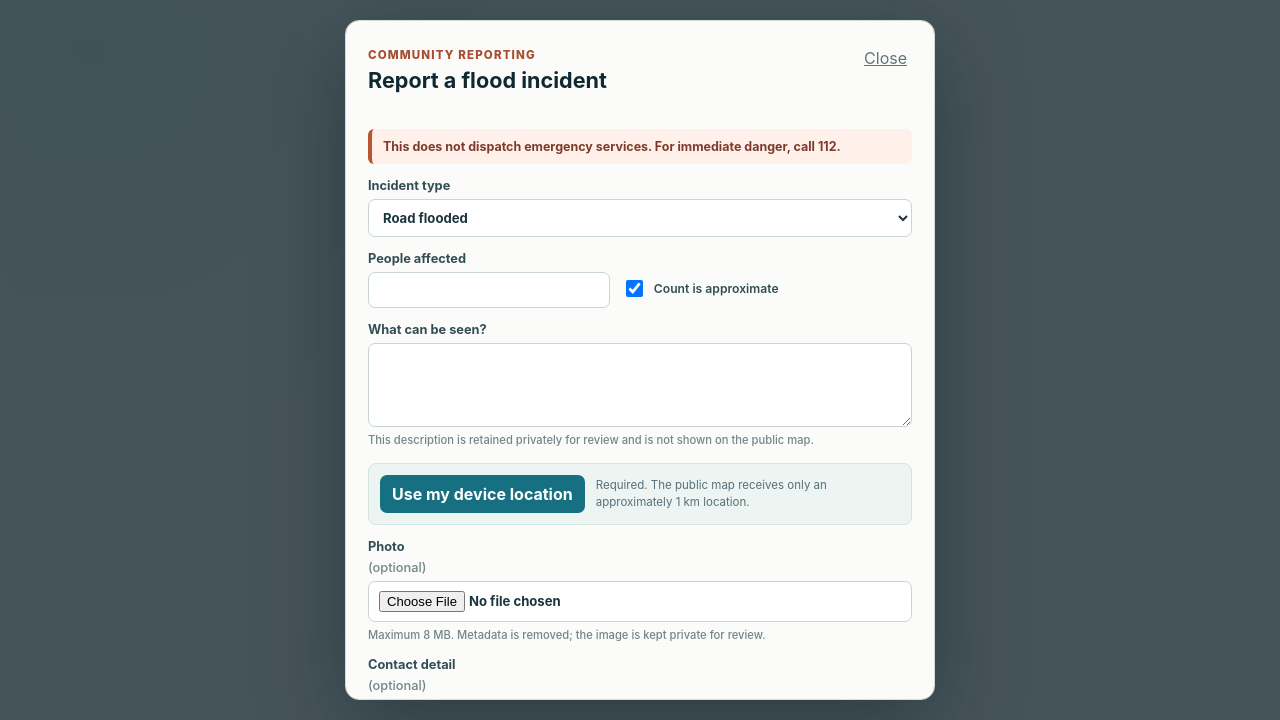
IncidentReportDialog › captures location, submits privacy fields and presents the unverified receipt
Click the button "Use my device location". click: (482, 494)
box: 380,475 -> 585,513
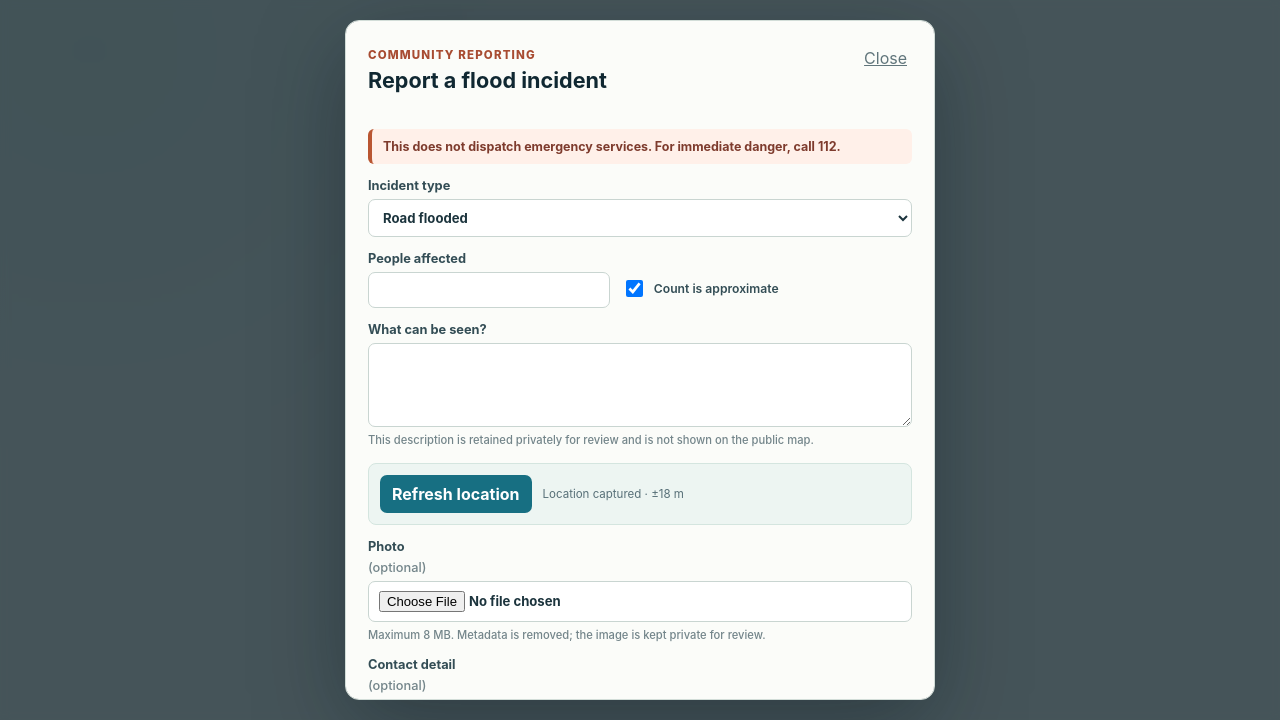
Expected: the text "Location captured · ±18 m" is shown, 543,486 -> 684,502
Type "Road under water near the bridge" into the text box labelled "What can be seen". click: (640, 385)
box: 368,343 -> 912,427
(page scrolled)
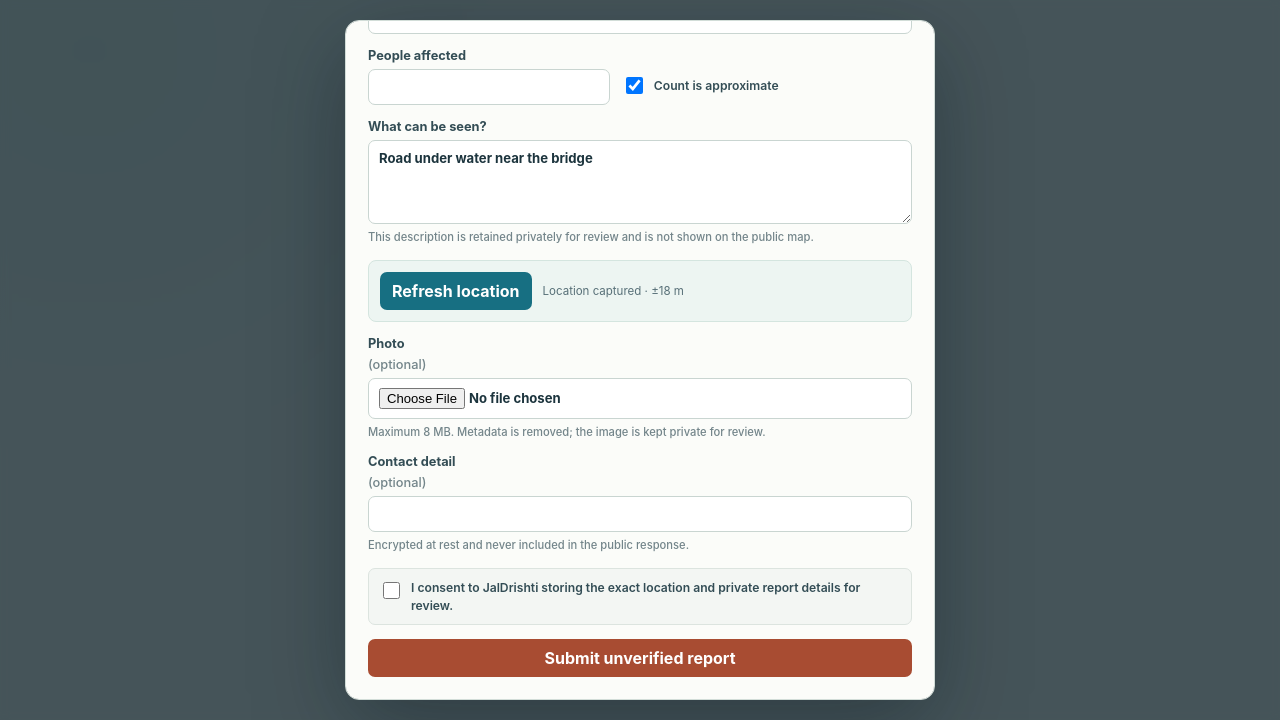
Click the checkbox labelled "I consent to JalDrishti storing the exact location". click: (392, 590)
box: 383,582 -> 400,599
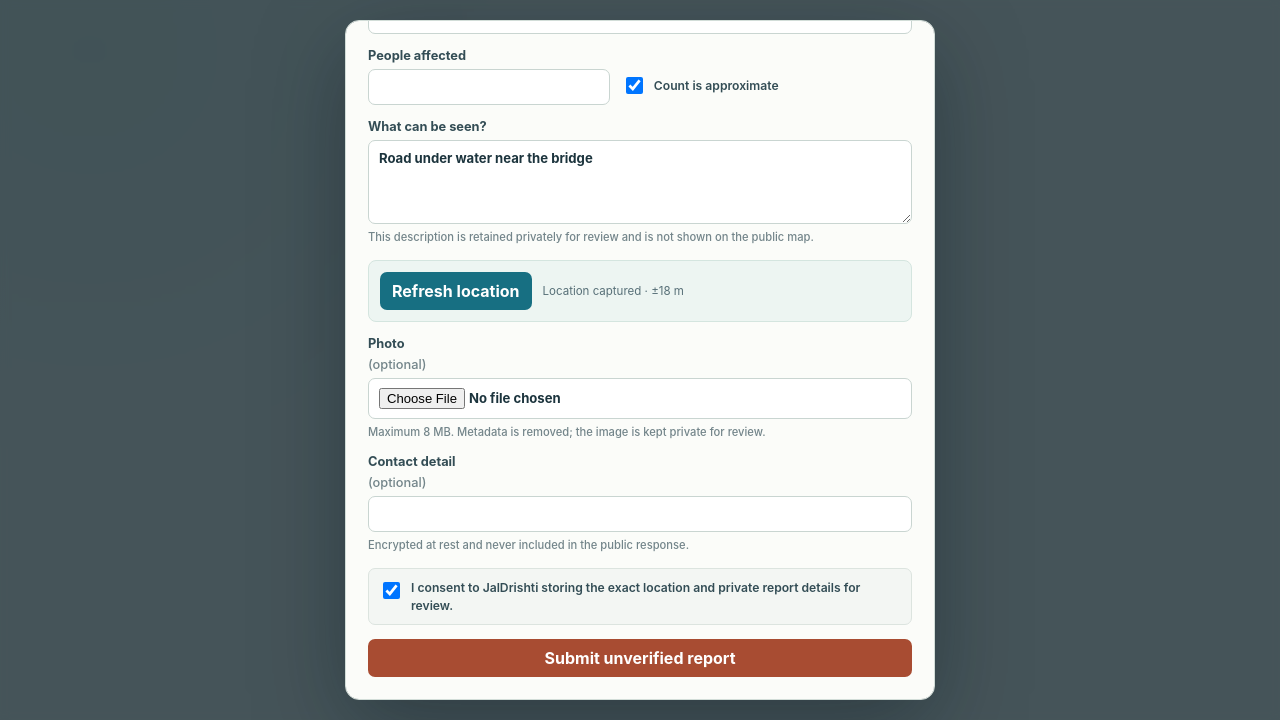
Click the button "Submit unverified report". click: (640, 658)
box: 368,639 -> 912,677
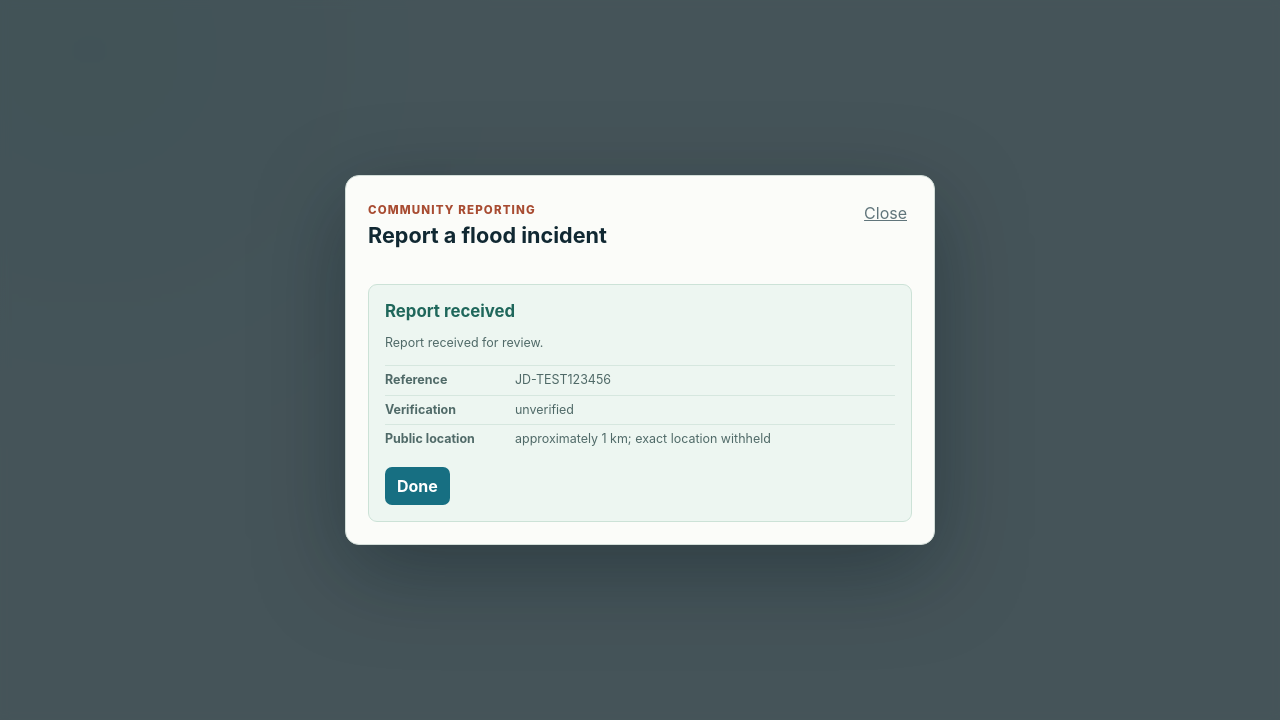
Expected: the text "unverified" is shown, 515,402 -> 574,417
Expected: the text "JD-TEST123456" is shown, 515,372 -> 611,387
